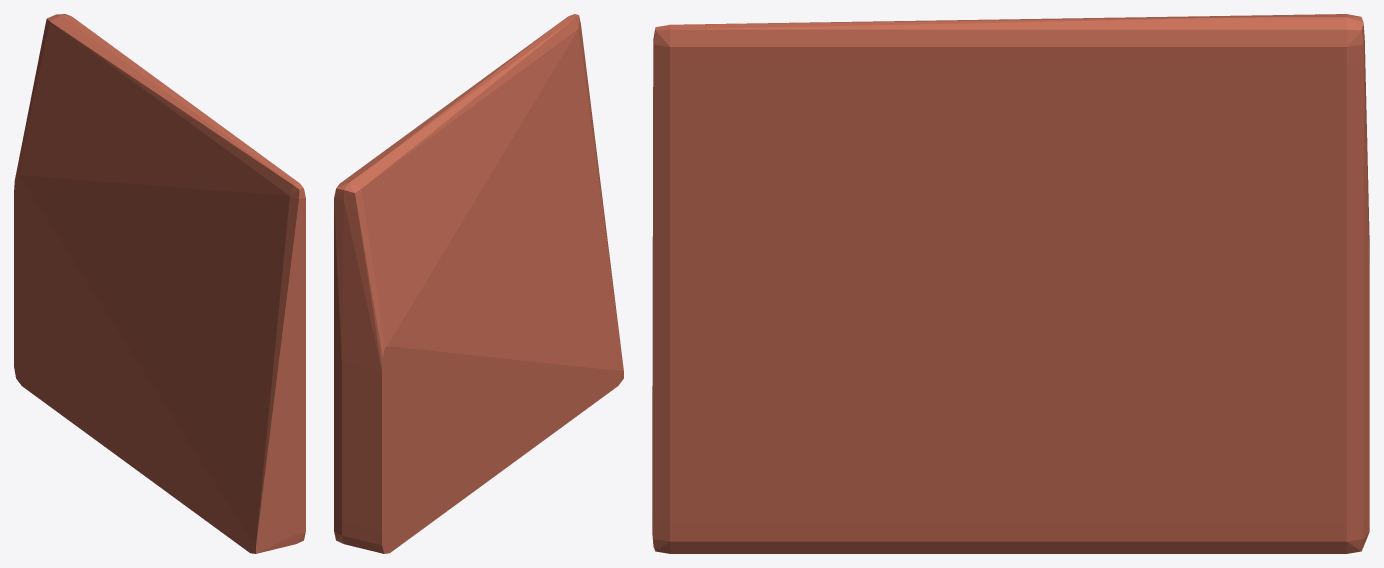
Rendered from left_hip_yaw_link_part_9.obj.
3 renders of one model, left to right at view 1: azimuth 30°, elevation 25°; view 2: azimuth 150°, elevation 25°; view 3: azimuth 270°, elevation 25°, orthographic. The views are drawn at different scales.
Bounding box in the file's own units: 0.00516 × 0.0333 × 0.0405.
